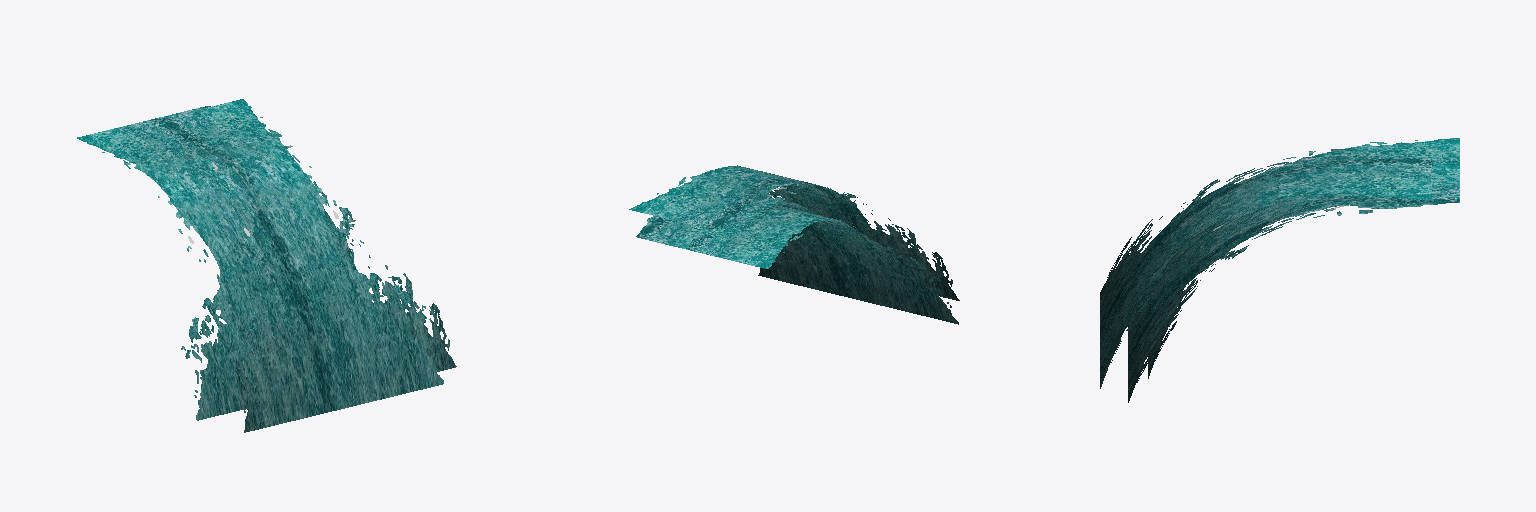
3 renders of one model, left to right at view 1: azimuth 30°, elevation 25°; view 2: azimuth 150°, elevation 25°; view 3: azimuth 270°, elevation 25°, orthographic.
Visible parts, largest first — view 1: 3d-model; view 2: 3d-model; view 3: 3d-model.
Boxes of the visible parts, box(x1,y1,x2,y2) form: 3d-model: box(77, 99, 456, 432); 3d-model: box(629, 165, 959, 324); 3d-model: box(1100, 138, 1459, 402).
Bounding box in the file's own units: 17.01 × 11.16 × 21.08.
2 materials, 1 textured.